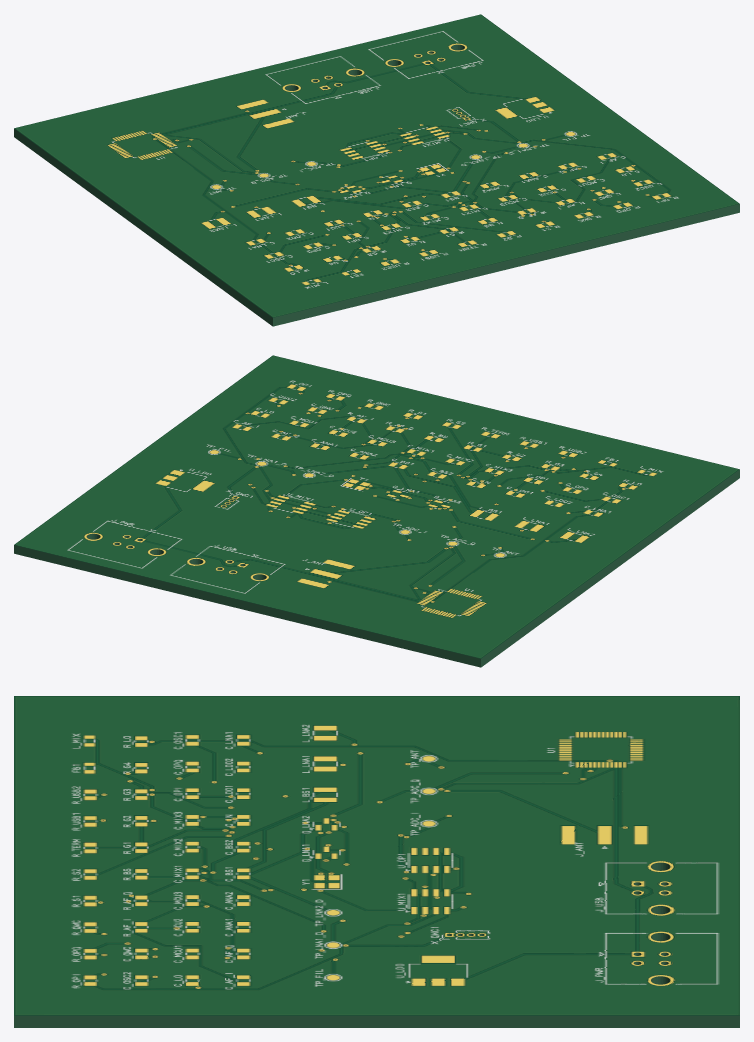
Rendered from board.glb.
3 views of the same model, one above another, from view 1: azimuth 30°, elevation 25°; view 2: azimuth 150°, elevation 25°; view 3: azimuth 270°, elevation 25° (orthographic). The views are drawn at different scales.
Parts seen in each view (by area): view 1: Box0; view 2: Box0; view 3: Box0.
Part boxes in pixels (bbox=[...]): Box0: bbox=[14, 14, 739, 326]; Box0: bbox=[14, 355, 739, 667]; Box0: bbox=[14, 696, 739, 1027].
Size of the model in its own units: 88.6 by 1.6 by 85.08.
3 materials, 2 textured.
